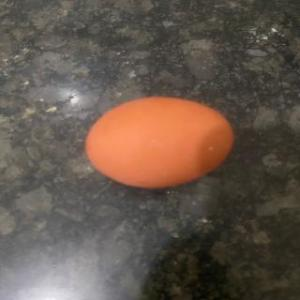egg: (79, 92, 236, 189)
